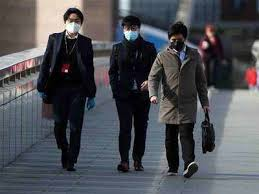mask: (122, 20, 142, 42), (66, 13, 83, 33), (169, 32, 186, 51)
